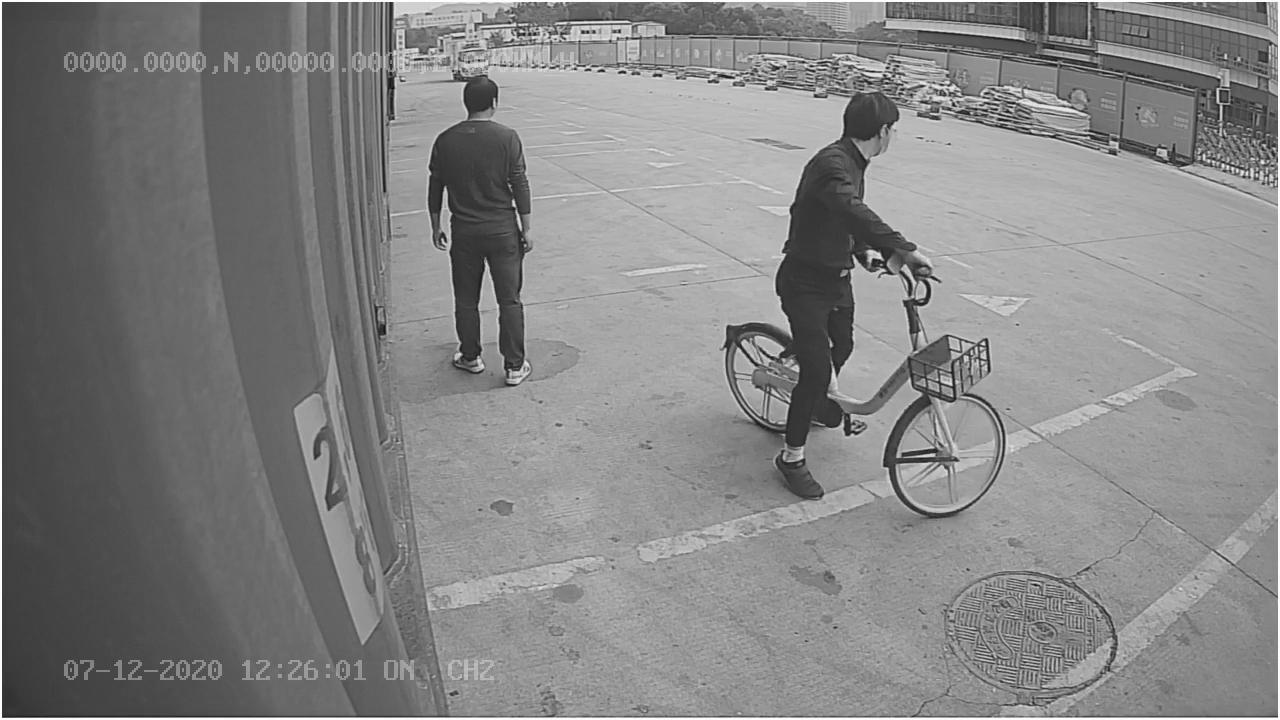person: (418, 73, 540, 391)
